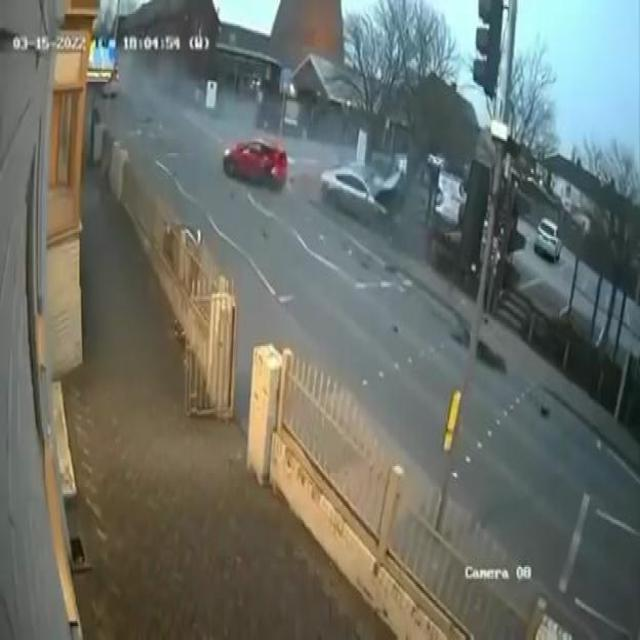accident: (315, 140, 411, 250), (221, 126, 290, 201)
